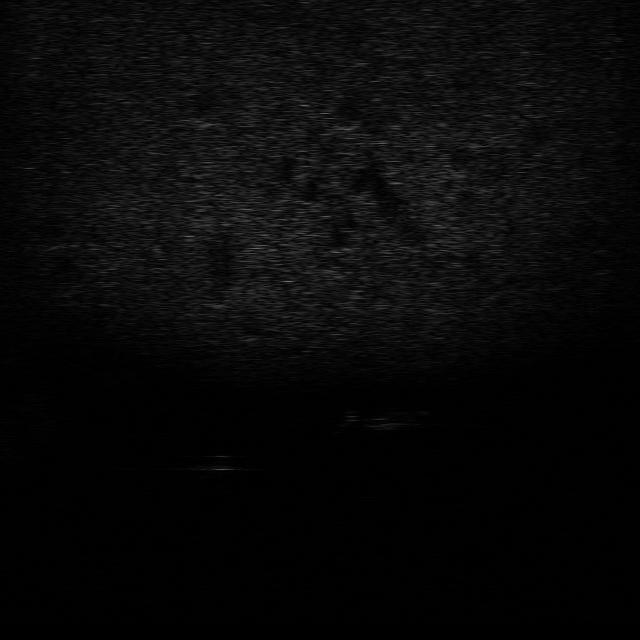ball: (195, 452, 246, 477)
human body: (330, 405, 439, 435)
